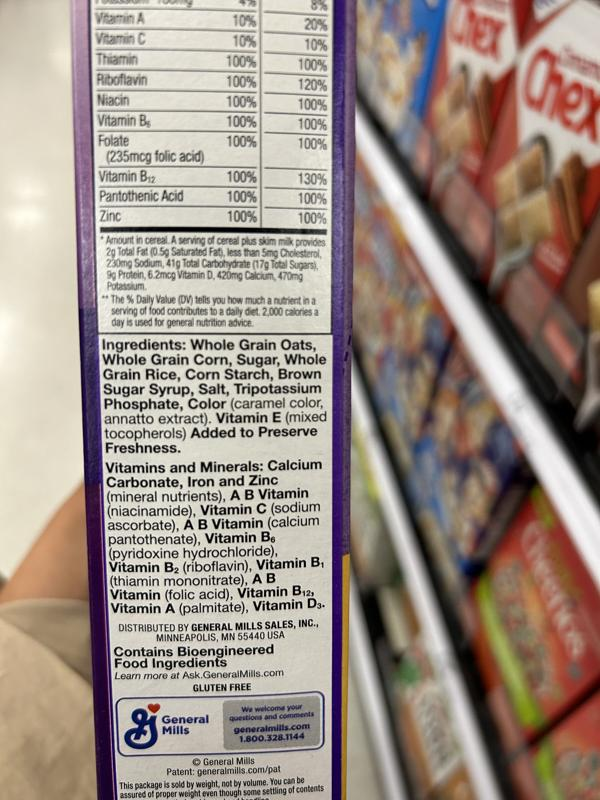ingredients: (99, 337, 331, 457)
